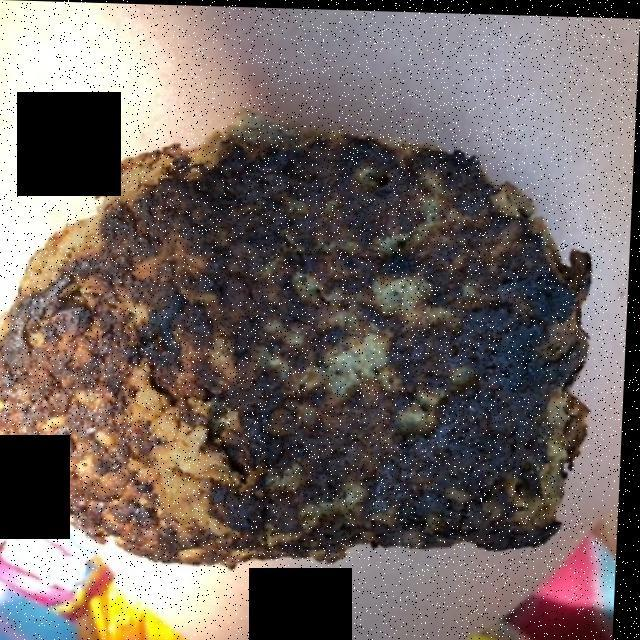beef: (13, 124, 574, 543)
